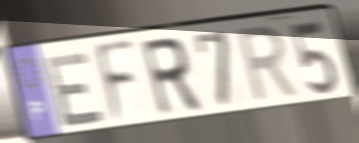5: (287, 17, 343, 97)
7: (190, 29, 237, 111)
E: (43, 48, 108, 130)
F: (92, 37, 138, 130)
R: (138, 34, 206, 120), (235, 22, 303, 107)
